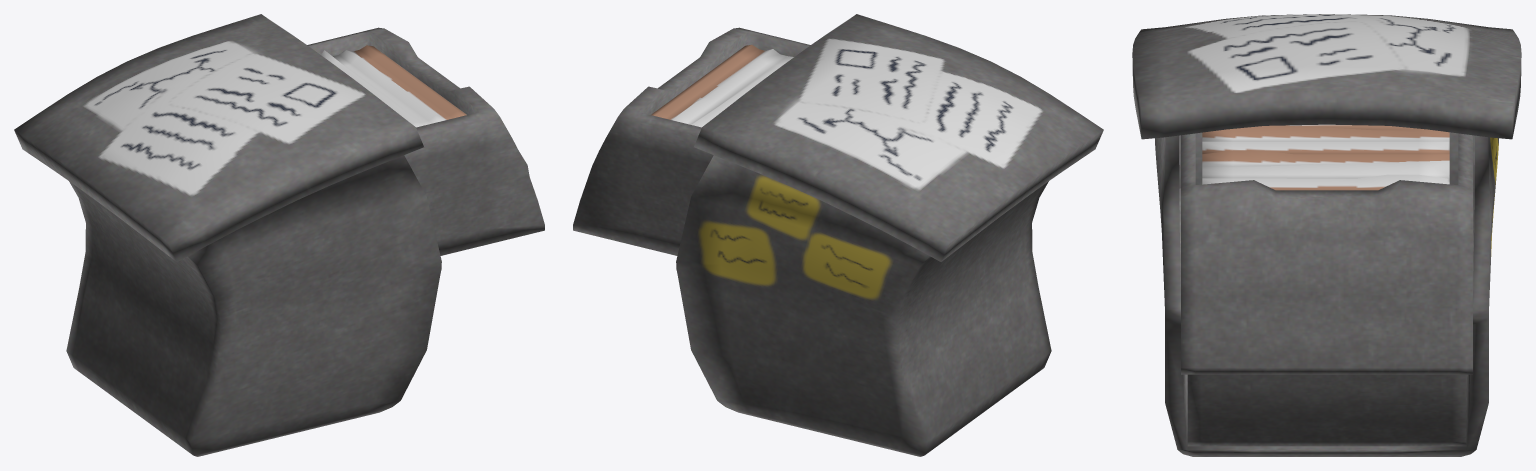
Rendered from FileCabinet_Open_1.glb.
3 views of the same model, side by side, from view 1: azimuth 30°, elevation 25°; view 2: azimuth 150°, elevation 25°; view 3: azimuth 270°, elevation 25° (orthographic). The views are drawn at different scales.
Visible parts, largest first — view 1: FileCabinetBase, TopDrawerPapers; view 2: FileCabinetBase, TopDrawerPapers; view 3: TopDrawerPapers, FileCabinetBase, TopDrawerPapers.001.
Boxes of the visible parts, x1,y1,x2,y2 form: FileCabinetBase: (14, 14, 441, 456); TopDrawerPapers: (307, 27, 544, 255); FileCabinetBase: (676, 14, 1103, 456); TopDrawerPapers: (573, 27, 810, 255); TopDrawerPapers: (1181, 124, 1472, 374); FileCabinetBase: (1132, 14, 1521, 456); TopDrawerPapers.001: (1187, 374, 1466, 446).
Bounding box in the file's own units: 1.54 × 1.13 × 1.08.
3 materials, 3 textured.
